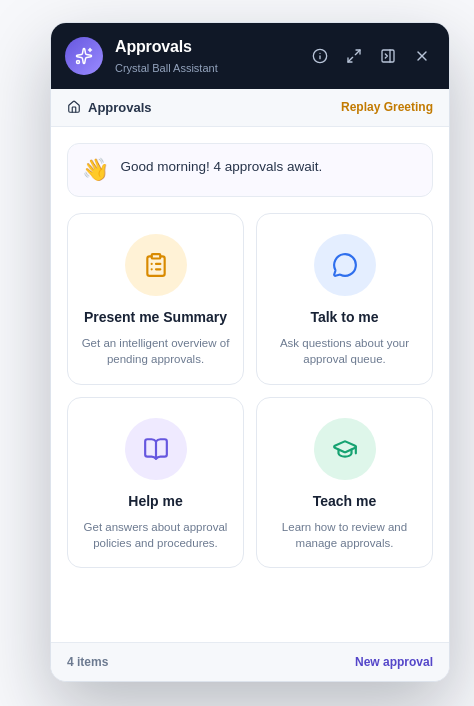
AssistantPanel › Help me › shows an error with Try again when the request fails
Step 1. Click the button "Help me Get answers about approval policies and procedures." → (156, 482), box [67,397,244,568]
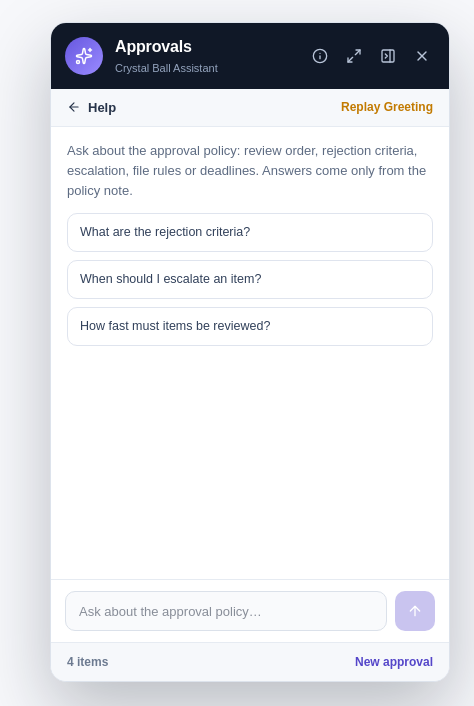
Step 2. Type "What is the SLA?" into the field named "your question" → (226, 611), box [65,591,387,631]
Then press Enter
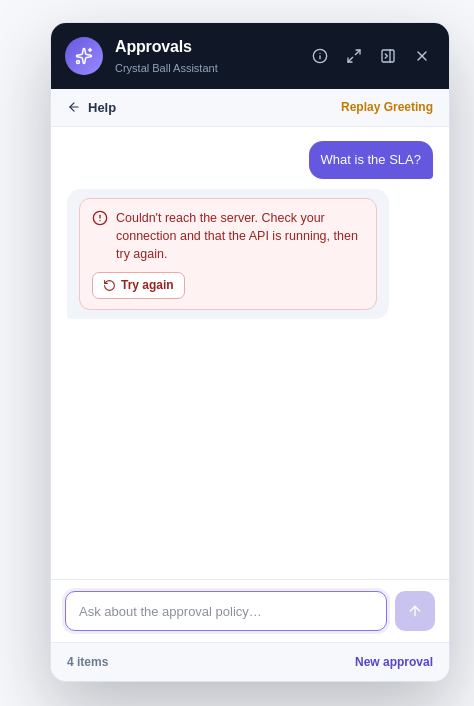
Result: the message shows "reach the server" at [116,211,358,261]
Step 3. Click the button "Try again" → (138, 285), box [92,272,185,299]
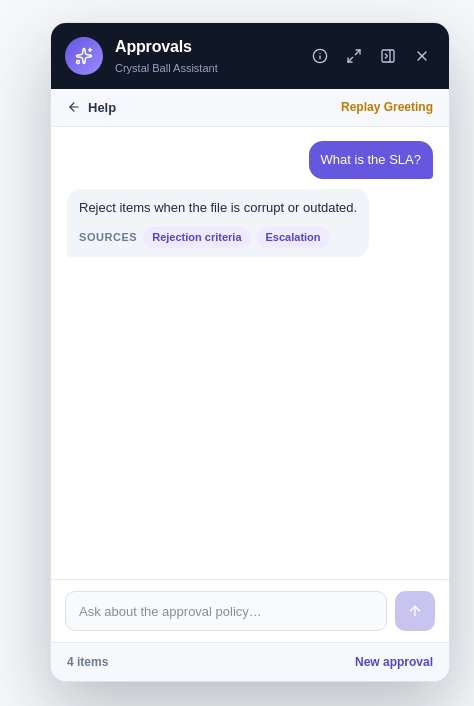
Result: the text "Reject items when the file is corrupt or outdated." is shown at [79,198,357,218]
